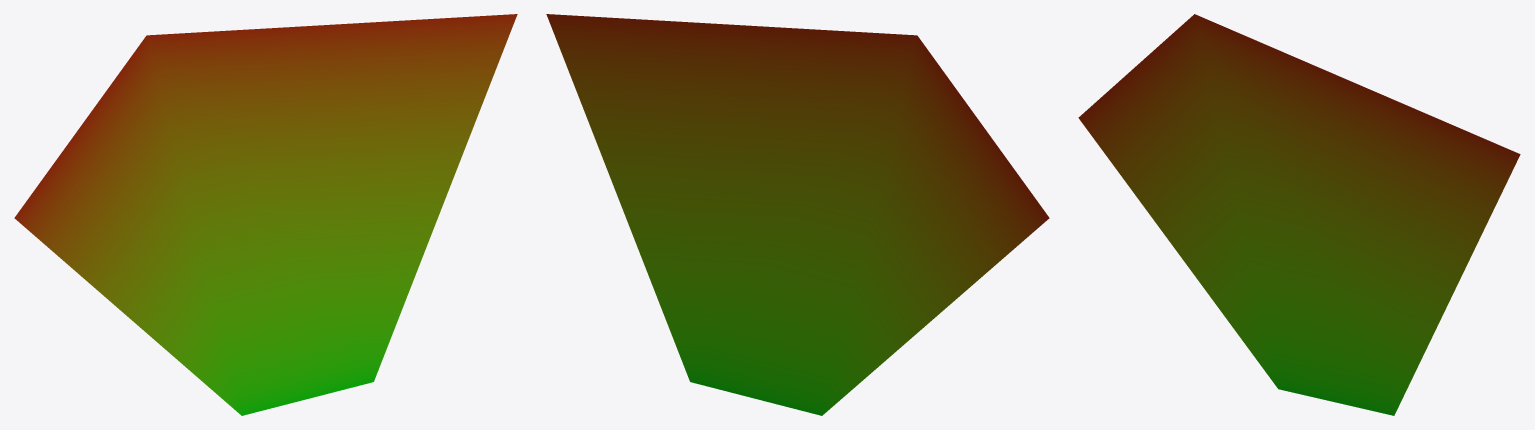
File: Aloe Vera_LOD4_Var8_ve4tbbrha.fbx
The picture shows the model from 3 angles, left to right: view 1: azimuth 30°, elevation 25°; view 2: azimuth 150°, elevation 25°; view 3: azimuth 330°, elevation 25°; orthographic projection. The views are drawn at different scales.
Visible parts, largest first — view 1: _ie4b_Var8_LOD4; view 2: _ie4b_Var8_LOD4; view 3: _ie4b_Var8_LOD4.
Boxes of the visible parts, <box> form: _ie4b_Var8_LOD4: <box>14,14,517,415</box>; _ie4b_Var8_LOD4: <box>546,14,1049,415</box>; _ie4b_Var8_LOD4: <box>1078,14,1520,415</box>.
Bounding box in the file's own units: 49.92 × 38.27 × 7.49e-06.
